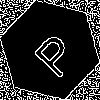P: (25, 25, 81, 81)
